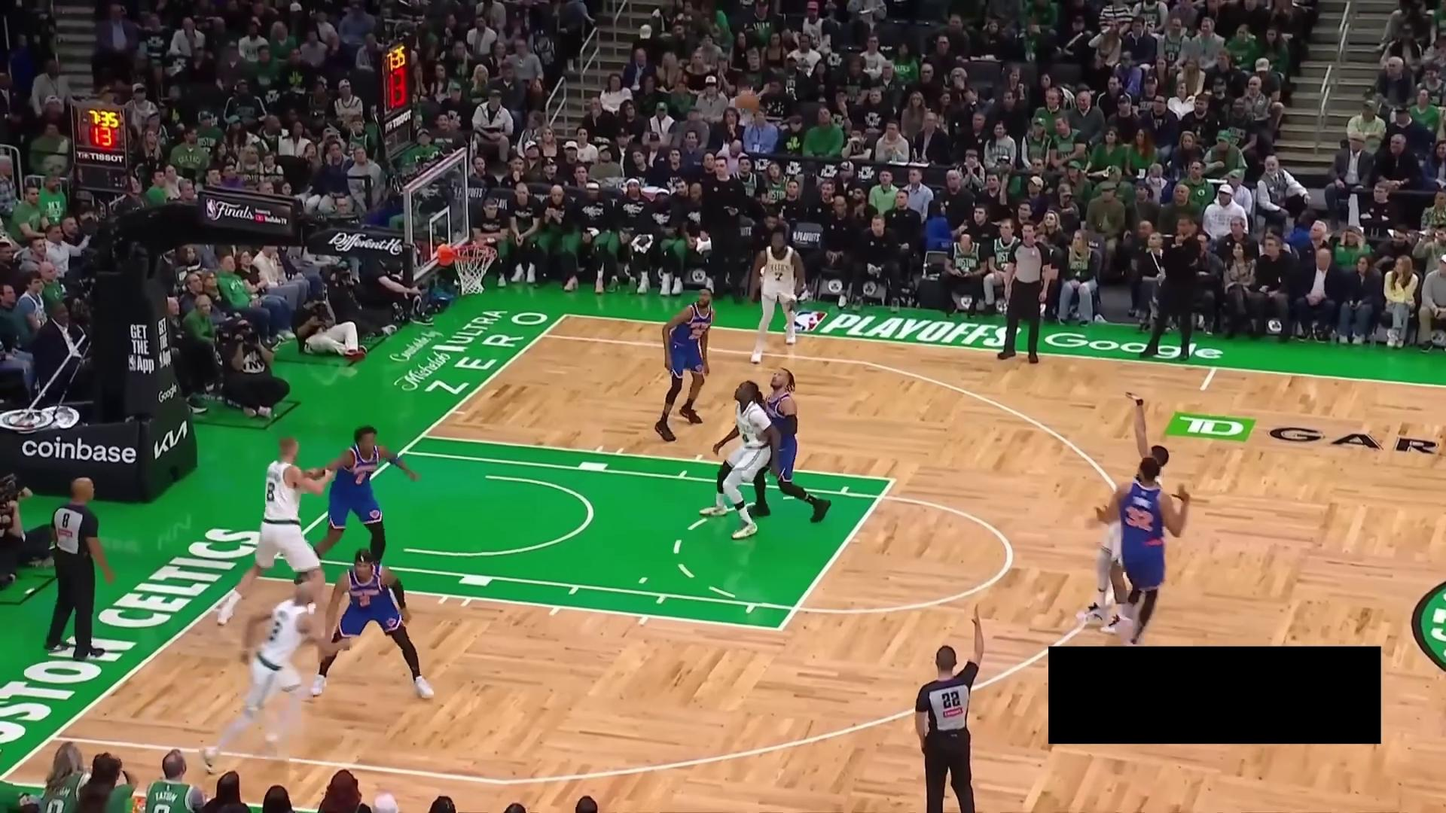ball: (734, 90, 759, 111)
number: (1124, 506, 1154, 530), (267, 619, 283, 643), (267, 481, 276, 503), (359, 594, 371, 608), (773, 270, 784, 282), (741, 432, 750, 443)
player: (197, 575, 352, 777), (215, 435, 351, 627), (1076, 391, 1170, 638), (1087, 455, 1191, 646), (310, 547, 435, 702), (307, 424, 421, 576), (743, 367, 833, 525), (697, 379, 778, 540), (654, 285, 717, 443), (747, 228, 806, 365)
referee: (914, 601, 985, 813), (41, 477, 114, 660), (996, 220, 1054, 364)
rim: (452, 243, 499, 260)
